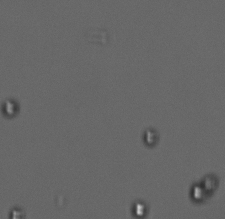Dead Cell: (202, 172, 218, 192)
Living Cell: (141, 127, 164, 147), (130, 199, 151, 217), (2, 99, 18, 119), (191, 184, 206, 203)
